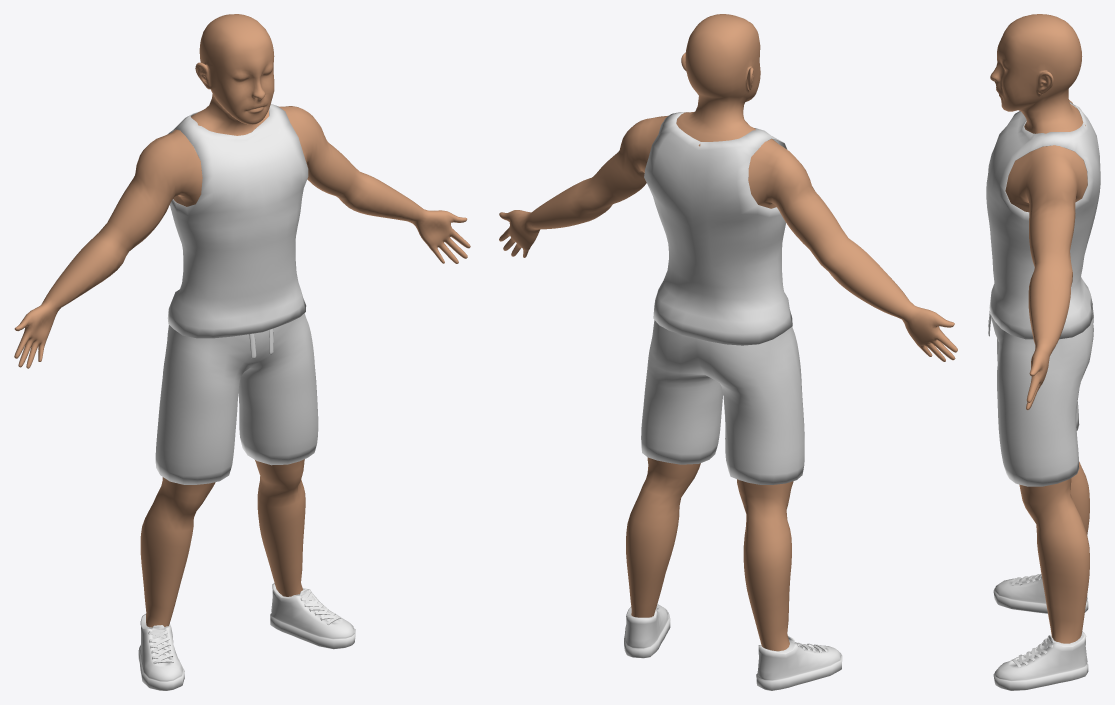
File: Victim shirt Unity.fbx
3 views of the same model, side by side, from view 1: azimuth 30°, elevation 25°; view 2: azimuth 150°, elevation 25°; view 3: azimuth 270°, elevation 25° (orthographic). The views are drawn at different scales.
Parts seen in each view (by area): view 1: Retopology Final.001, Tshirt final.001, Short.001, Shoe low poly.005; view 2: Retopology Final.001, Tshirt final.001, Short.001, Shoe low poly.005; view 3: Retopology Final.001, Tshirt final.001, Short.001, Shoe low poly.005.
Boxes of the visible parts, <box> form: Retopology Final.001: <box>14,14,470,627</box>; Tshirt final.001: <box>167,104,308,338</box>; Short.001: <box>155,313,318,484</box>; Shoe low poly.005: <box>138,583,355,690</box>; Retopology Final.001: <box>499,14,957,651</box>; Tshirt final.001: <box>644,112,792,345</box>; Short.001: <box>641,320,804,484</box>; Shoe low poly.005: <box>624,604,842,690</box>; Retopology Final.001: <box>990,14,1089,643</box>; Tshirt final.001: <box>986,102,1100,339</box>; Short.001: <box>991,307,1093,486</box>; Shoe low poly.005: <box>993,574,1088,690</box>.
Bounding box in the file's own units: 1110 × 1478 × 245.
